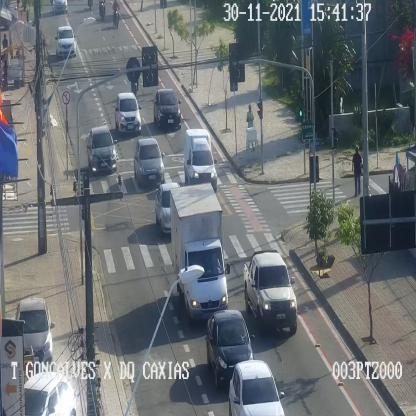car: (243, 252, 299, 338), (206, 309, 256, 386), (228, 360, 284, 416), (15, 298, 55, 364), (22, 372, 76, 416), (184, 129, 218, 193), (85, 125, 119, 174), (134, 138, 164, 190), (154, 183, 182, 234), (114, 93, 143, 133), (152, 90, 180, 130), (55, 26, 75, 58), (52, 0, 70, 18)
motorbike: (112, 1, 121, 30), (96, 0, 106, 23)
person: (352, 145, 363, 195), (246, 102, 254, 146)
truck: (170, 183, 231, 322)
